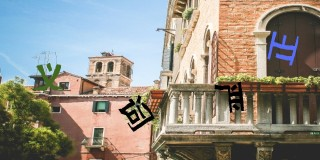严: (214, 82, 246, 113)
义: (33, 62, 63, 92)
正: (266, 30, 299, 66)
词: (119, 94, 156, 132)
